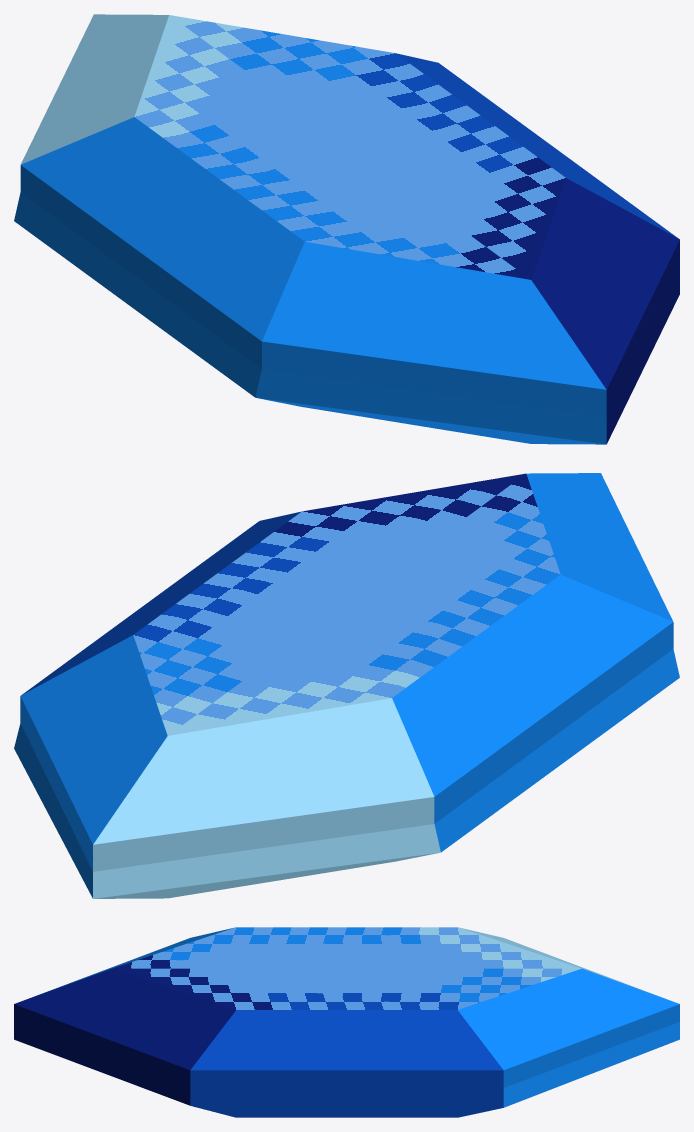
File: Jewels.fbx
3 renders of one model, top to bottom at view 1: azimuth 30°, elevation 25°; view 2: azimuth 150°, elevation 25°; view 3: azimuth 270°, elevation 25°, orthographic. The views are drawn at different scales.
Parts seen in each view (by area): view 1: cuboid; view 2: cuboid; view 3: cuboid.
Boxes of the visible parts, bbox=[...] form: cuboid: bbox=[14, 14, 679, 444]; cuboid: bbox=[14, 473, 679, 898]; cuboid: bbox=[14, 927, 679, 1117].
Size of the model in its own units: 103 by 37.5 by 212.
Materials: 1 (1 with a texture image).
